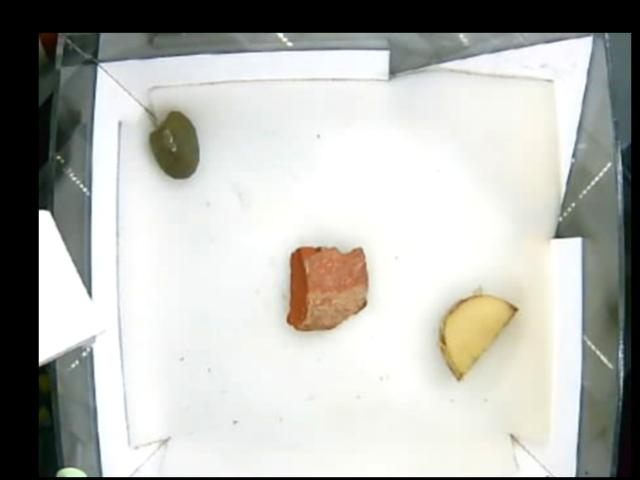Brisk: (287, 244, 368, 335)
Pebble: (147, 110, 203, 180)
Potato: (433, 293, 520, 383)
